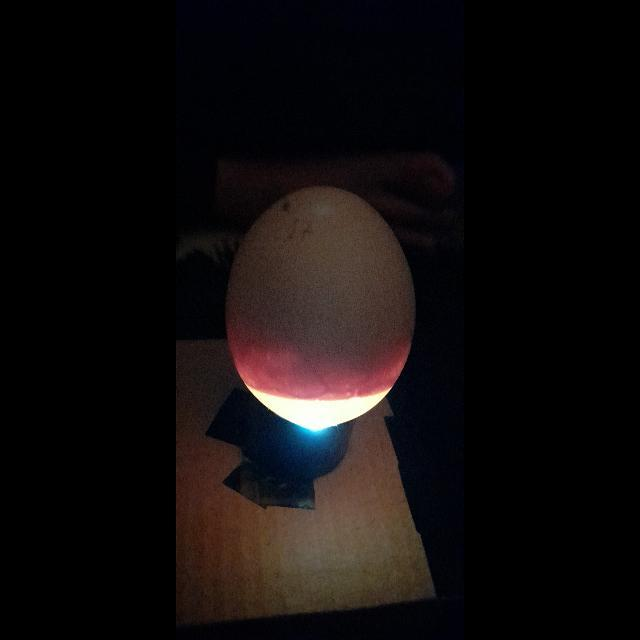Fertile: (218, 182, 416, 432)
